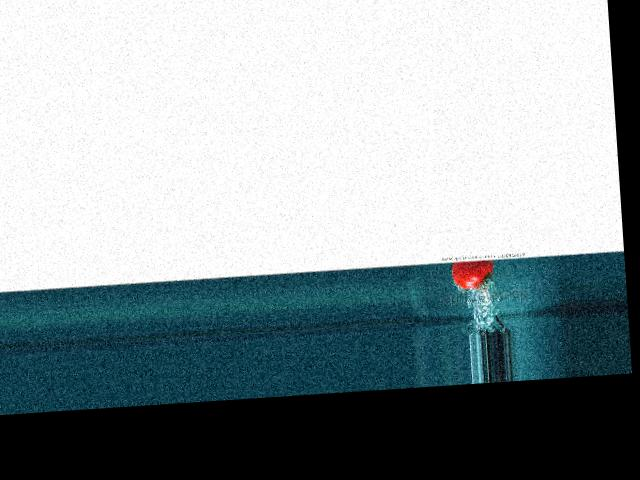tomato: (452, 259, 495, 290)
